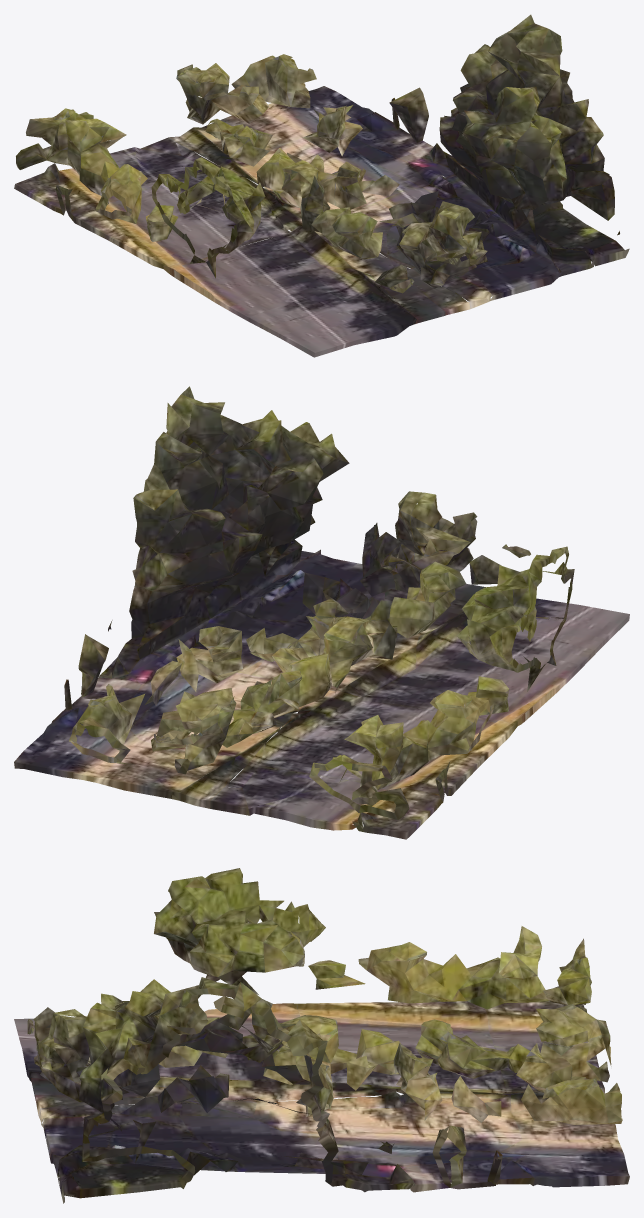
3 views of the same model, one above another, from view 1: azimuth 30°, elevation 25°; view 2: azimuth 150°, elevation 25°; view 3: azimuth 270°, elevation 25° (orthographic). The views are drawn at different scales.
Visible parts, largest first — view 1: Mesh_0; view 2: Mesh_0; view 3: Mesh_0.
Part boxes in pixels (x1,y1,x2,y2): Mesh_0: [14, 14, 629, 357]; Mesh_0: [14, 386, 629, 839]; Mesh_0: [14, 868, 629, 1203].
Size of the model in its own units: 67.48 by 33.31 by 82.61.
1 material, 1 textured.
